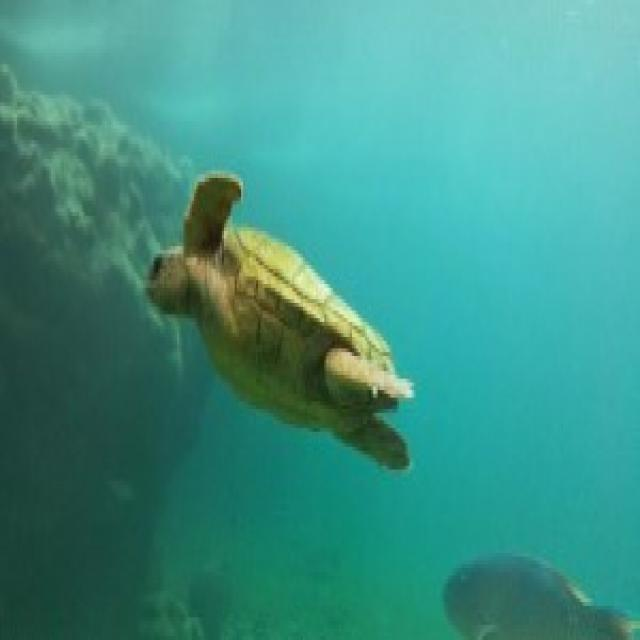Sea turtle: (121, 174, 425, 495)
